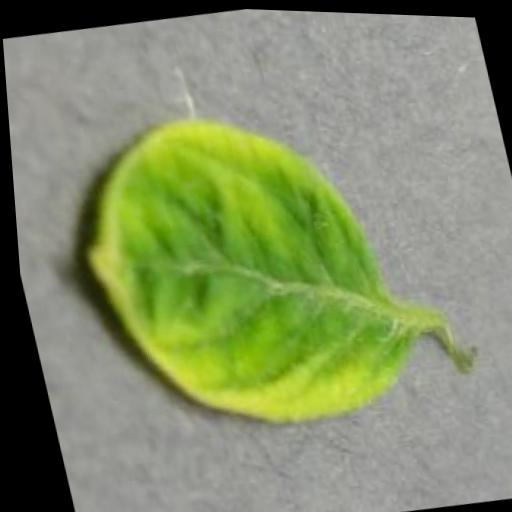Yellow Leaf Curl Virus: (50, 85, 426, 450)
